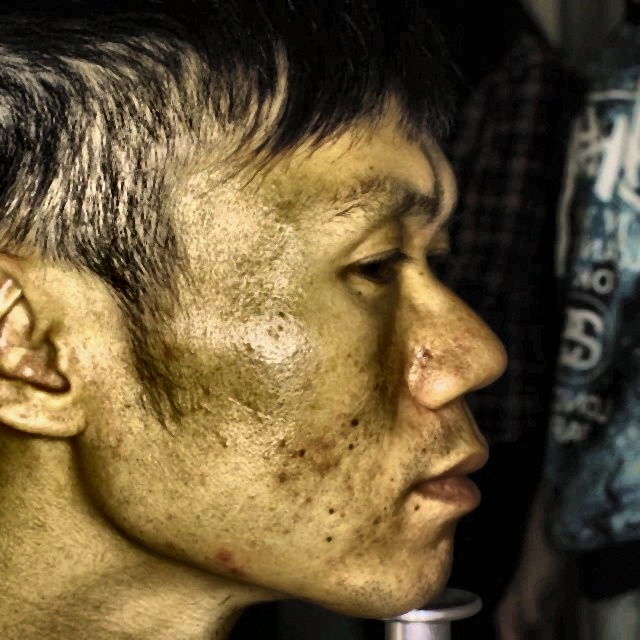comedone: (308, 454, 344, 482), (209, 546, 238, 570), (309, 432, 337, 456)
